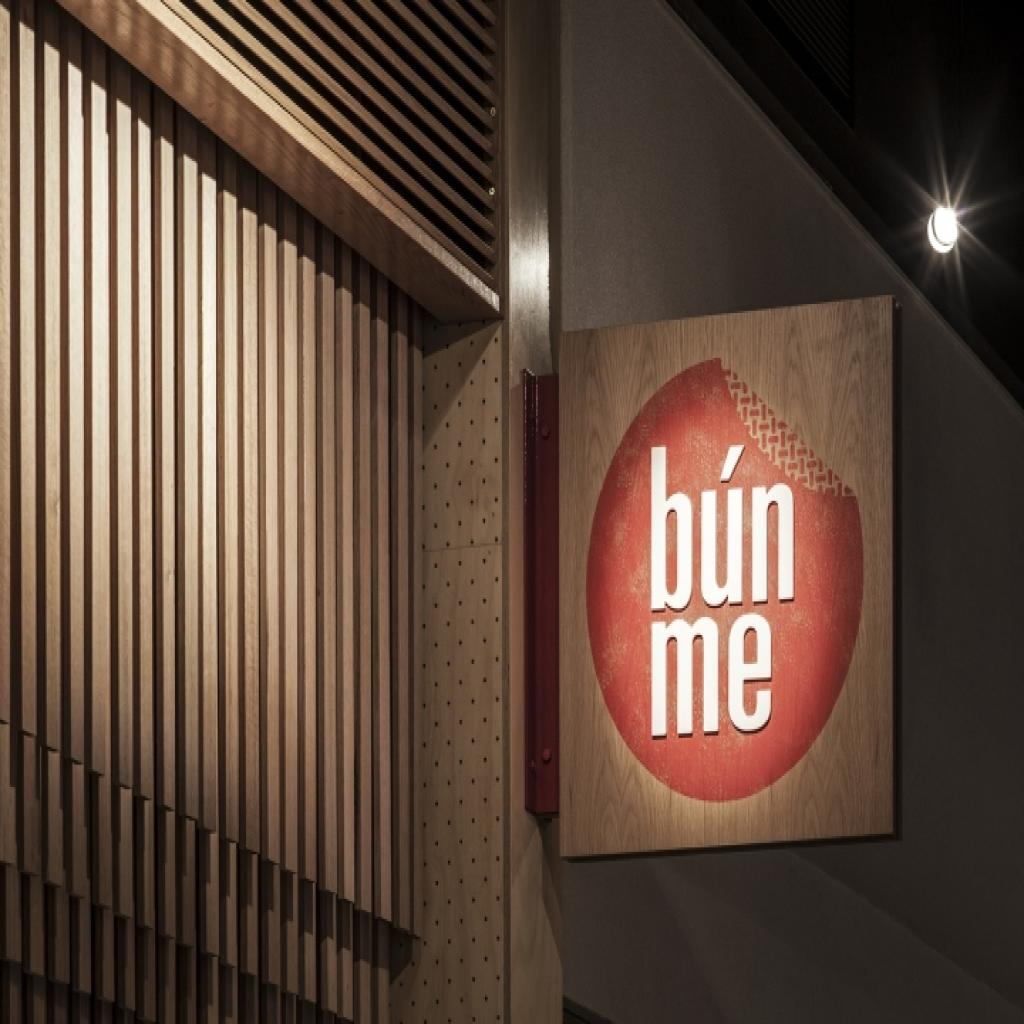text: (638, 407, 800, 615)
